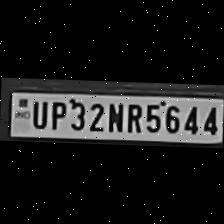2: (86, 98, 104, 131)
3: (66, 96, 86, 129)
4: (180, 100, 200, 132), (200, 102, 218, 134)
5: (142, 99, 162, 132)
6: (162, 101, 180, 133)
N: (104, 97, 122, 130)
P: (46, 97, 66, 129)
R: (122, 98, 142, 131)
U: (29, 97, 47, 128)
